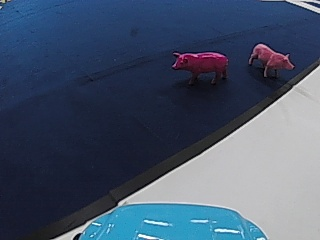pig: (169, 47, 230, 86), (247, 41, 296, 78)
